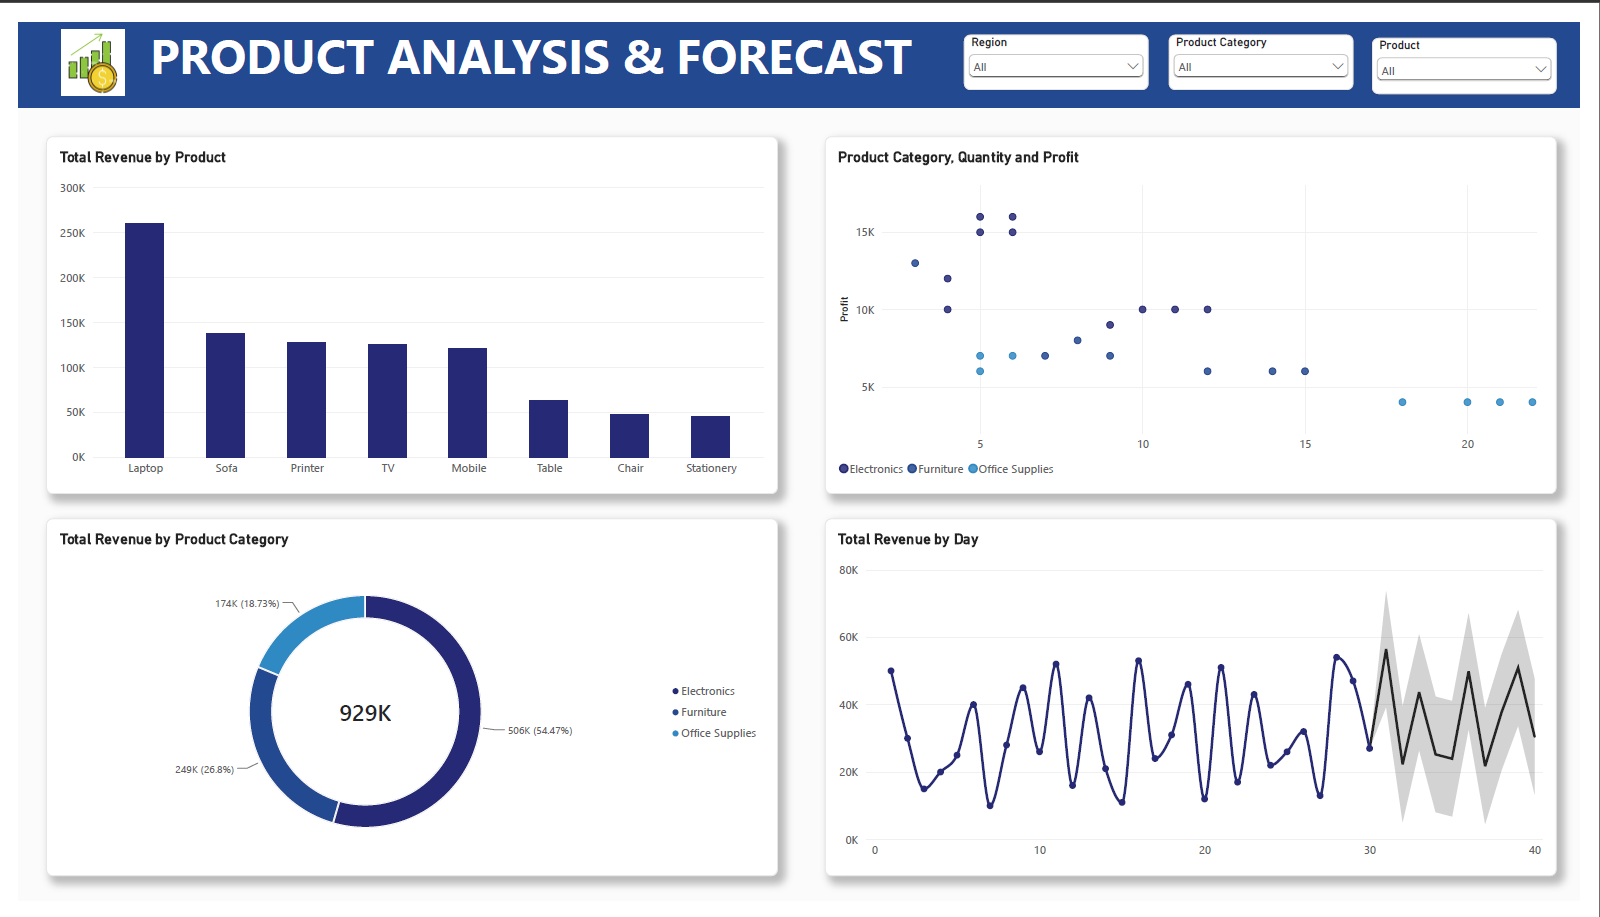

Layout of this report page (visuals, bound fields, positions):
{"tool":"powerbi","page":{"name":"           PRODUCT ANALYSIS & FORECAST","canvas":[1920,1080],"ordinal":1},"visuals":[{"type":"textbox","box":[0,0,1920.8,104.2],"z":8000},{"type":"image","box":[27.1,14.6,162.5,81.2],"z":9000},{"type":"slicer","fields":{"Values":["Sheet1.Product"]},"box":[1664.6,18.8,227.1,68.8],"z":10000},{"type":"slicer","fields":{"Values":["Sheet1.Product Category"]},"box":[1414.6,14.6,227.1,68.8],"z":11000},{"type":"slicer","fields":{"Values":["Sheet1.Region"]},"box":[1162.5,14.6,227.1,68.8],"z":12000},{"type":"clusteredColumnChart","fields":{"Category":["Sheet1.Product"],"Y":["Measures (2).Total Revenue"]},"box":[34,140,900,440],"z":12001},{"type":"scatterChart","fields":{"X":["Sheet1.Quantity"],"Y":["Sheet1.Profit"],"Series":["Sheet1.Product Category"]},"box":[992,140,900,440],"z":12002},{"type":"donutChart","fields":{"Y":["Measures (2).Total Revenue"],"Category":["Sheet1.Product Category"]},"box":[34,610,900,440],"z":12003},{"type":"lineChart","fields":{"Category":["Sheet1.Date.Variation.Date Hierarchy.Day"],"Y":["Measures (2).Total Revenue"]},"box":[992,610,900,440],"z":12004}]}

Visuals, with their boxes in screenshot pixels (x1, y1, x2, y2), scaled from the page's 1920x1080 canvas onto the 1600x917 screenshot:
textbox: (left=0, top=0, right=1599, bottom=88)
image: (left=23, top=12, right=158, bottom=81)
slicer - Sheet1.Product: (left=1387, top=16, right=1576, bottom=74)
slicer - Sheet1.Product Category: (left=1179, top=12, right=1368, bottom=71)
slicer - Sheet1.Region: (left=969, top=12, right=1158, bottom=71)
clusteredColumnChart - Sheet1.Product x Measures (2).Total Revenue: (left=28, top=119, right=778, bottom=492)
scatterChart - Sheet1.Quantity x Sheet1.Profit: (left=827, top=119, right=1577, bottom=492)
donutChart - Measures (2).Total Revenue x Sheet1.Product Category: (left=28, top=518, right=778, bottom=892)
lineChart - Sheet1.Date.Variation.Date Hierarchy.Day x Measures (2).Total Revenue: (left=827, top=518, right=1577, bottom=892)
